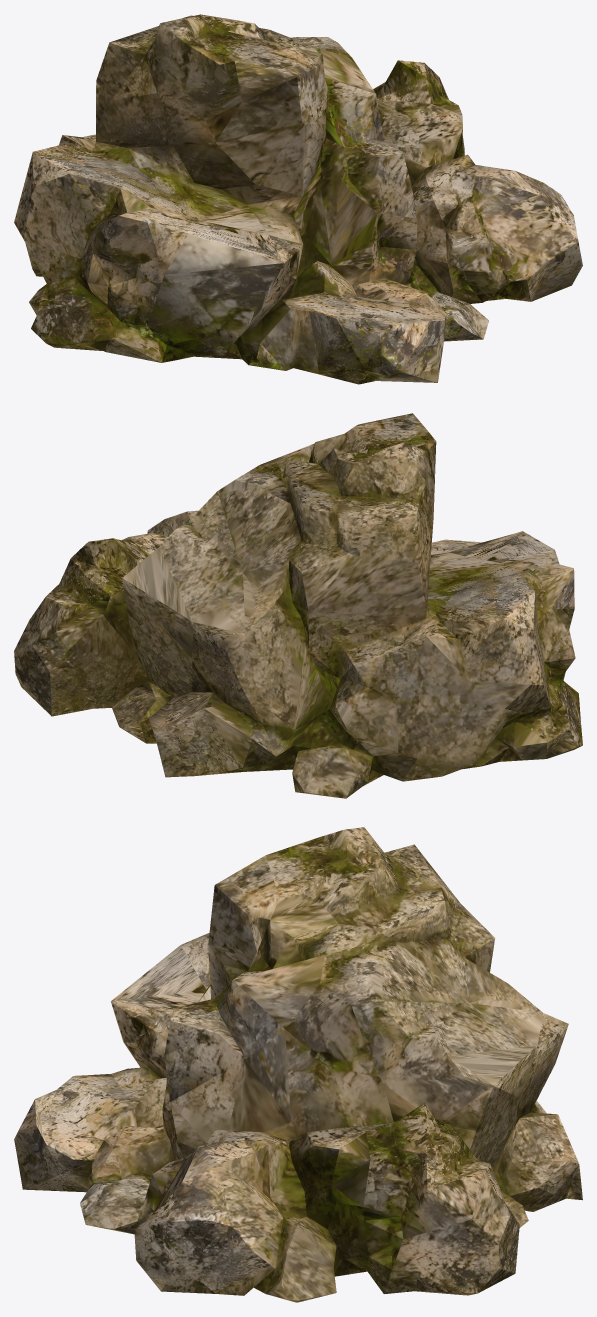
Rendered from ROC_RocaFragmentada_01_LOD2.fbx.
3 views of the same model, one above another, from view 1: azimuth 30°, elevation 25°; view 2: azimuth 150°, elevation 25°; view 3: azimuth 270°, elevation 25° (orthographic). The views are drawn at different scales.
Parts seen in each view (by area): view 1: ROC_RocaFragmentada_01_Mesh000; view 2: ROC_RocaFragmentada_01_Mesh000; view 3: ROC_RocaFragmentada_01_Mesh000.
Boxes of the visible parts, x1=… form: ROC_RocaFragmentada_01_Mesh000: x1=14, y1=14, x2=582, y2=384; ROC_RocaFragmentada_01_Mesh000: x1=14, y1=413, x2=582, y2=798; ROC_RocaFragmentada_01_Mesh000: x1=14, y1=827, x2=582, y2=1302.
Size of the model in its own units: 2.8 by 1.56 by 2.63.
